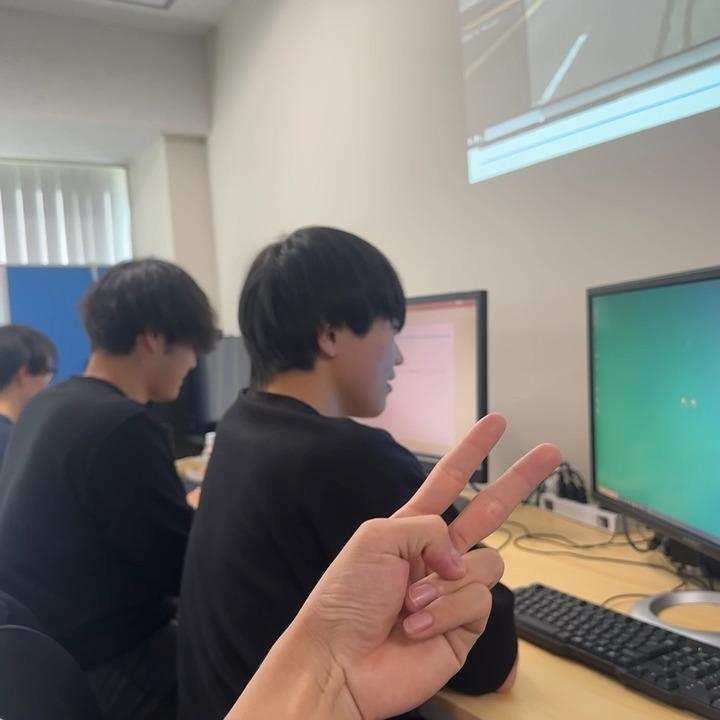without_gloves: (331, 382, 661, 720)
